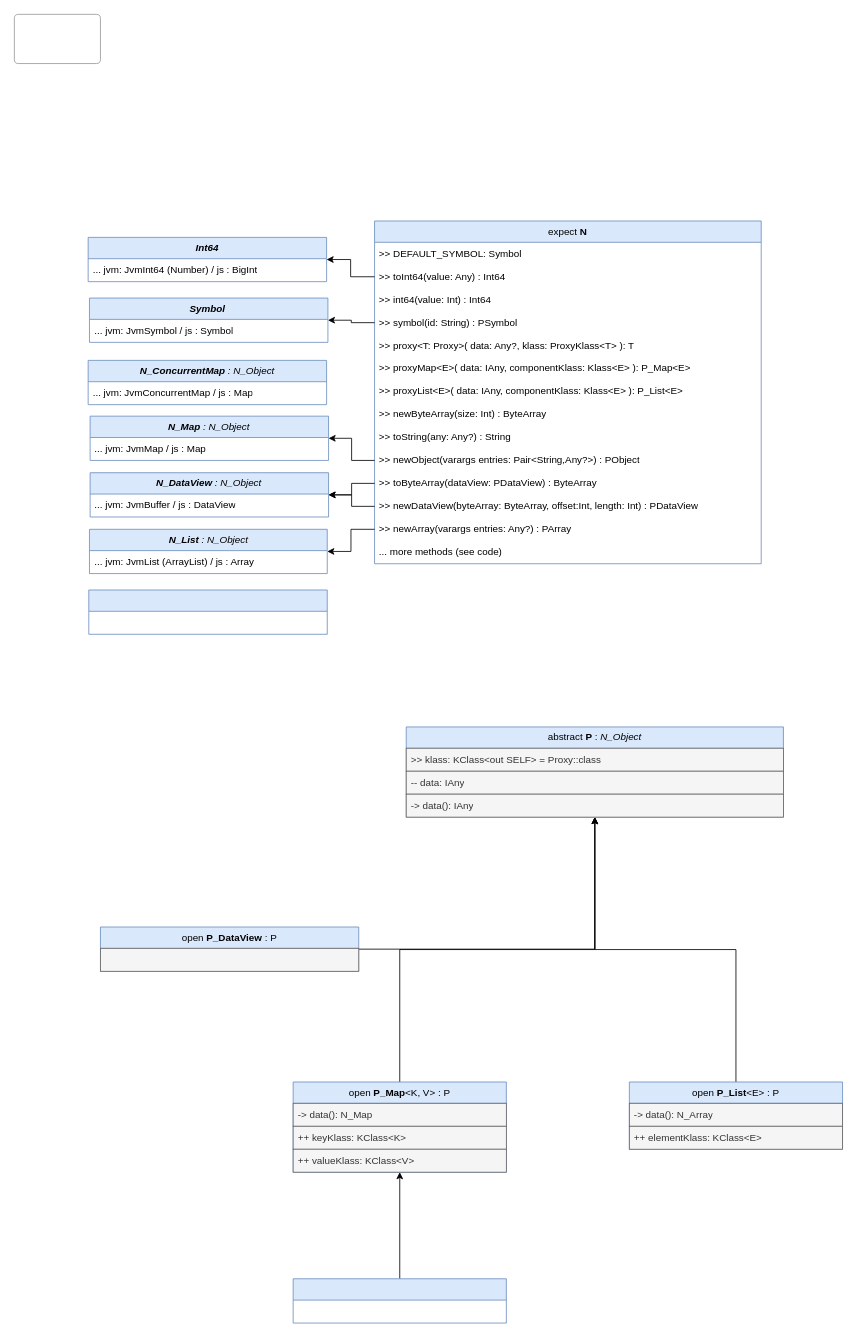
This 857x1337 diagram has some shape labels left out. Each missing label, with the centre of its shape:
-> data(): N_DataView: (x=229, y=959)
N_Object: (x=207, y=611)
open P_Object : P_Map<String, Any?>: (x=399, y=1300)
TEMPLATE: (x=57, y=39)
